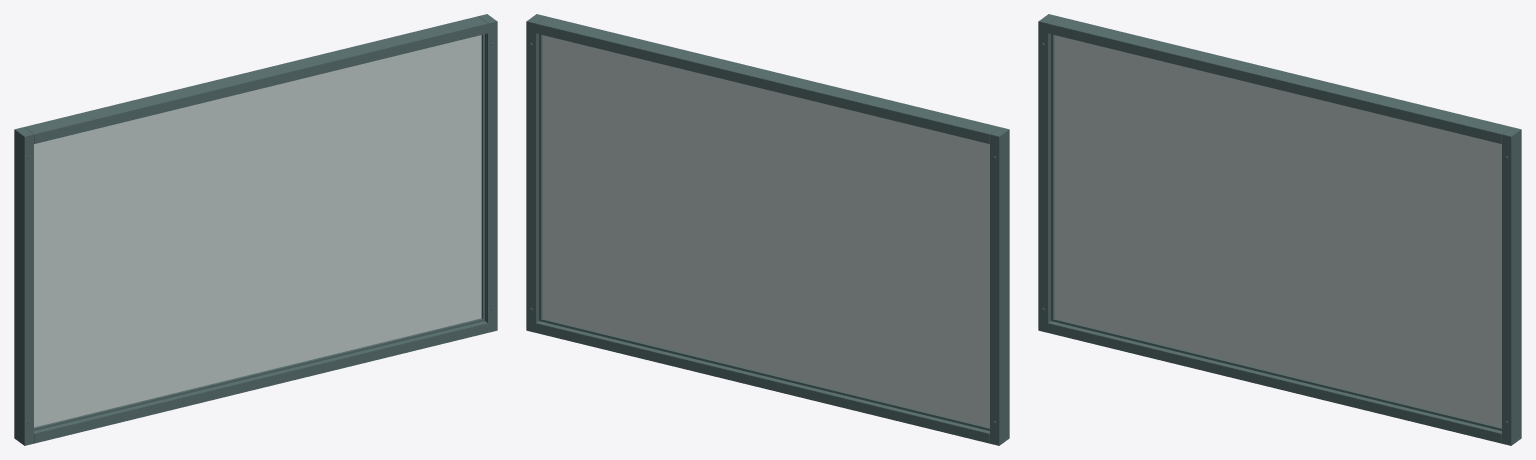
Rendered from OBJ-060_VidrioObservacion.fbx.
3 renders of one model, left to right at view 1: azimuth 30°, elevation 25°; view 2: azimuth 150°, elevation 25°; view 3: azimuth 330°, elevation 25°, orthographic.
Visible parts, largest first — view 1: GEO-060-Pane, GEO-060-Frame; view 2: GEO-060-Pane, GEO-060-Frame; view 3: GEO-060-Pane, GEO-060-Frame.
Part boxes in pixels (left/top/right/bottom): GEO-060-Pane: left=34, top=35, right=481, bottom=427; GEO-060-Frame: left=14, top=14, right=497, bottom=445; GEO-060-Pane: left=542, top=35, right=989, bottom=427; GEO-060-Frame: left=526, top=14, right=1009, bottom=445; GEO-060-Pane: left=1054, top=35, right=1501, bottom=427; GEO-060-Frame: left=1038, top=14, right=1521, bottom=445.
Size of the model in its own units: 4 by 2.5 by 0.166.
